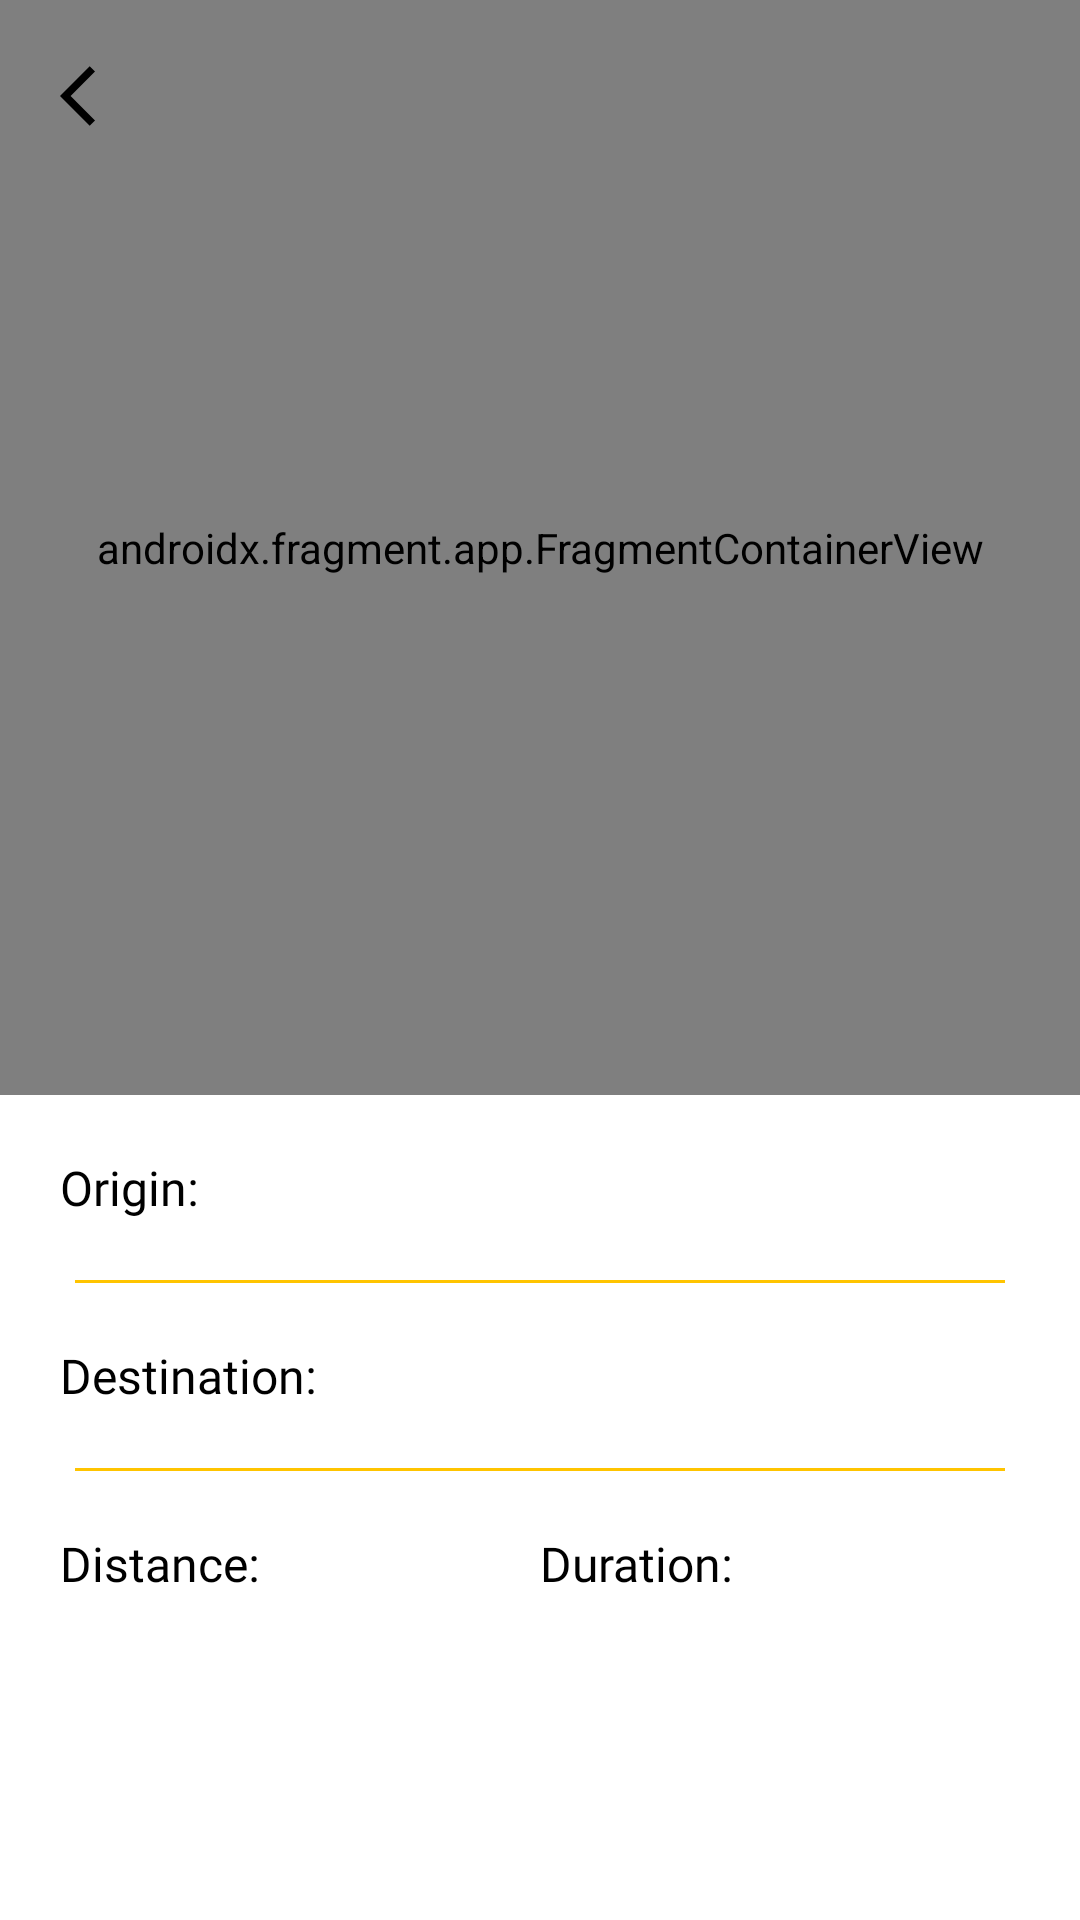

Locate icon controls on the screen. Image size 1080 x 1920, boxes as (x1, y1, x2, y2).
back: (60, 66, 95, 126)
